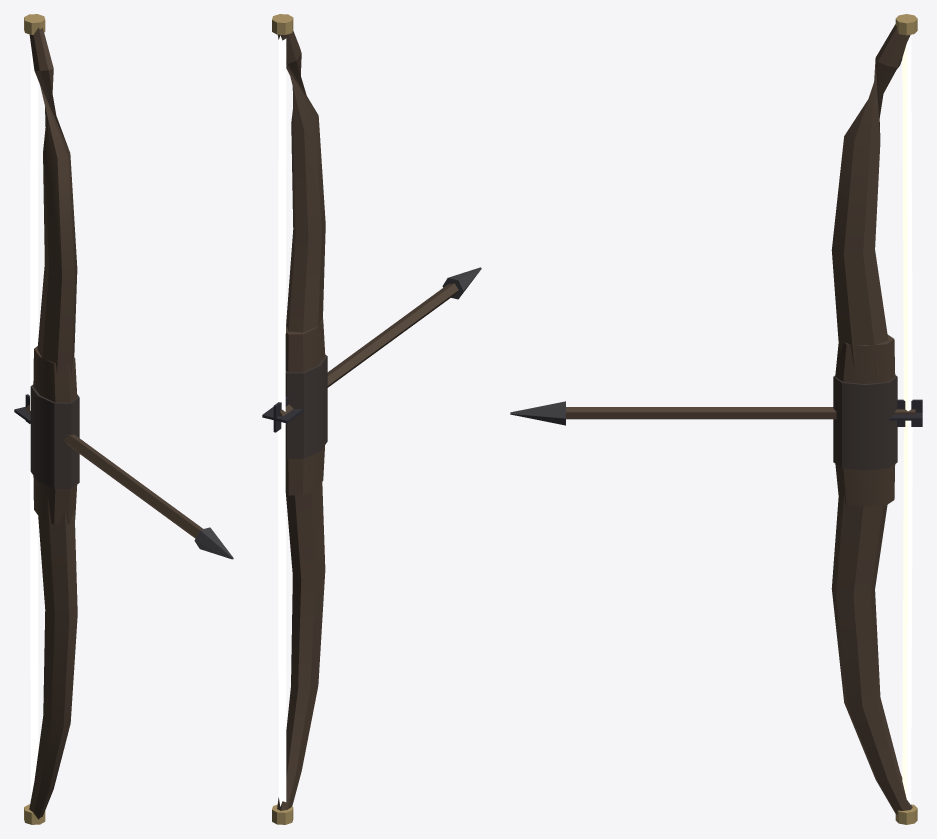
Rendered from archer_bow.glb.
The picture shows the model from 3 angles, left to right: view 1: azimuth 30°, elevation 25°; view 2: azimuth 150°, elevation 25°; view 3: azimuth 270°, elevation 25°; orthographic projection.
Visible parts, largest first — view 1: ArcherBow; view 2: ArcherBow; view 3: ArcherBow.
Boxes of the visible parts, box(x1,y1,x2,y2) form: ArcherBow: box(14, 14, 233, 824); ArcherBow: box(262, 14, 481, 824); ArcherBow: box(510, 14, 922, 824).
Bounding box in the file's own units: 0.072 × 1.59 × 0.7425.
